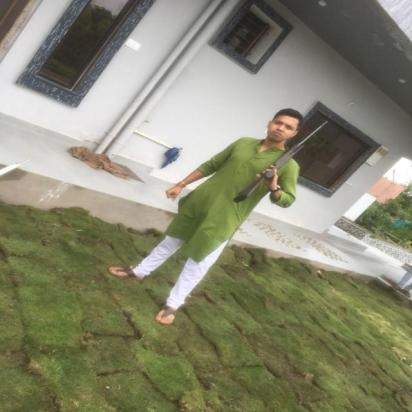Gun: (231, 119, 330, 204)
